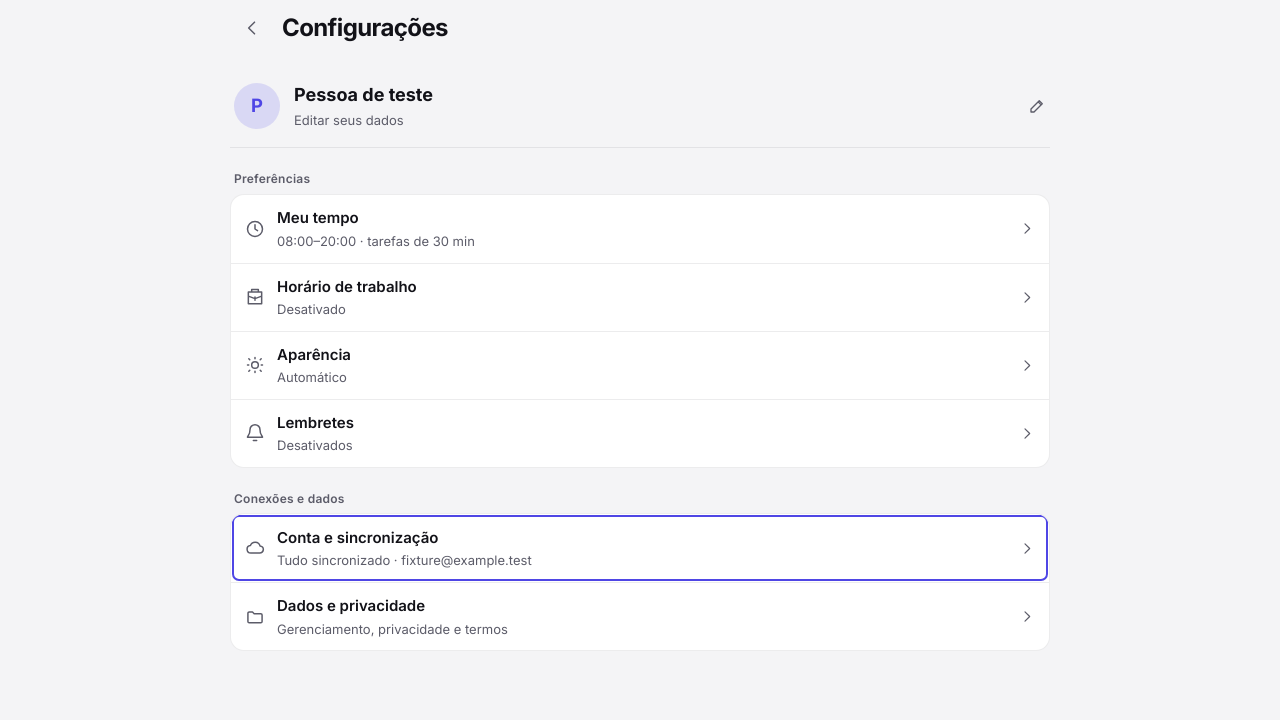
Test case: conta nova não exibe conexão Calendar nem erro técnico; login e sync Leve permanecem
Step 1. Click the button that starts with "Conta e sincronização" → click(358, 537), box [231,514,1049,582]
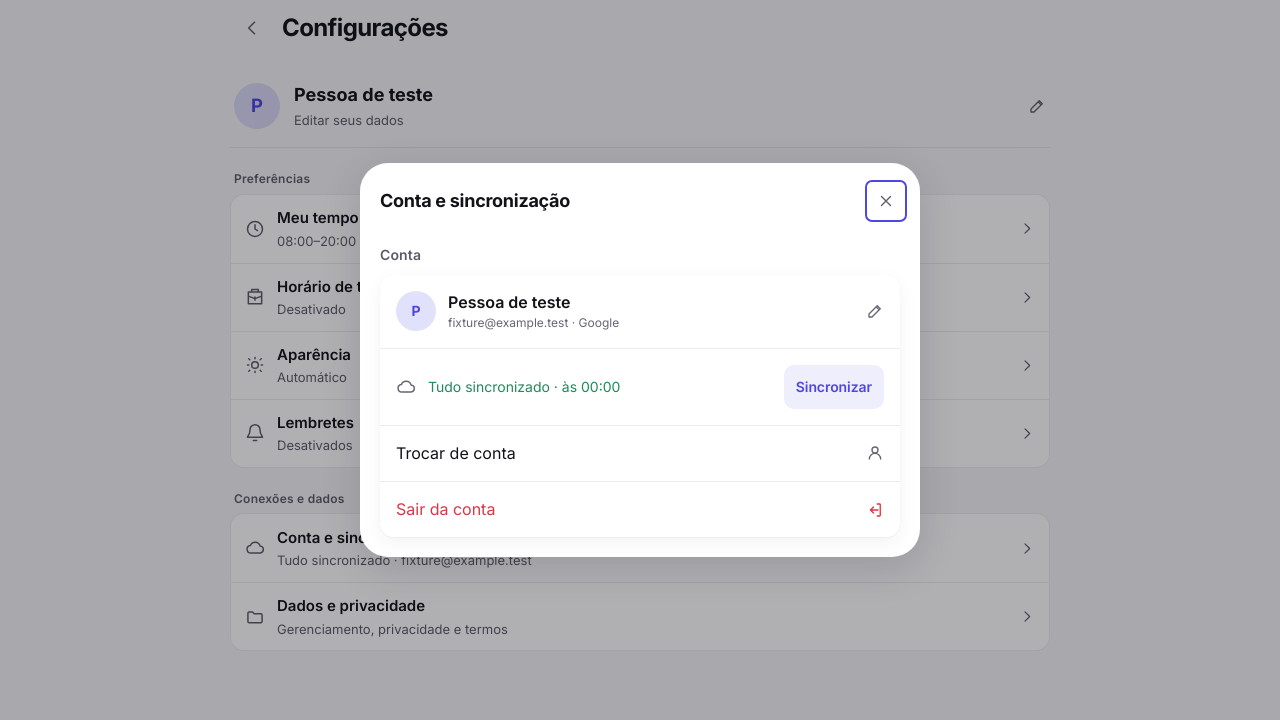
Result: the dialog shows "Tudo sincronizado" at [428,378,550,395]
